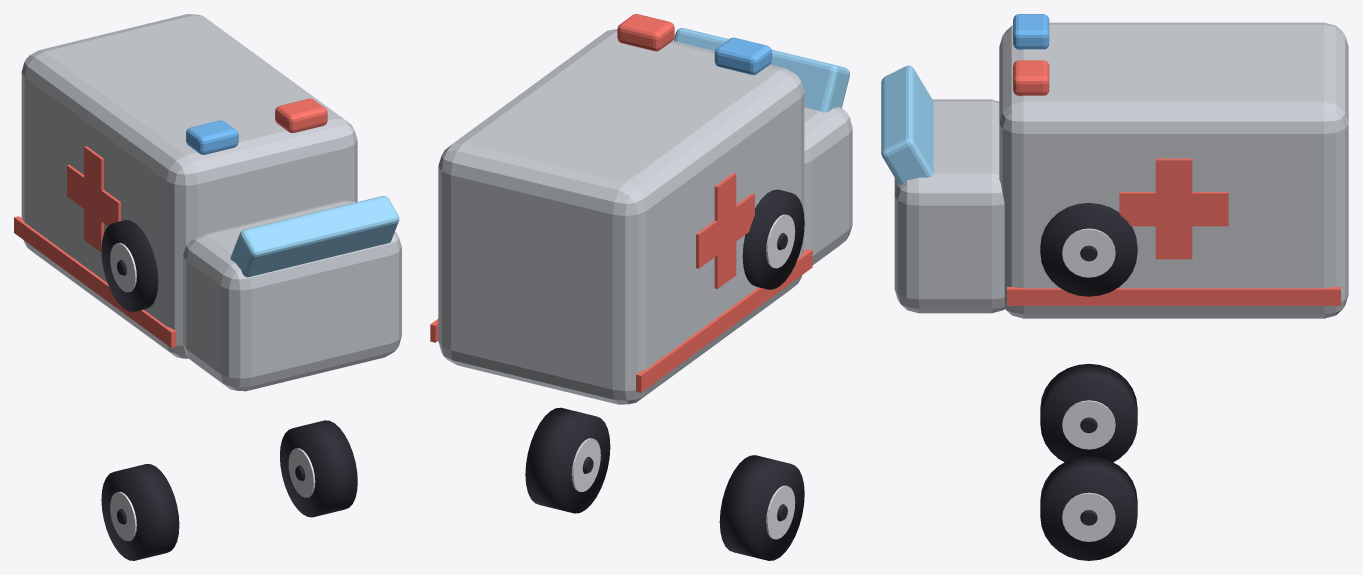
The model's file is Car_Ambulance.fbx.
3 views of the same model, side by side, from view 1: azimuth 30°, elevation 25°; view 2: azimuth 150°, elevation 25°; view 3: azimuth 270°, elevation 25° (orthographic). The views are drawn at different scales.
Parts seen in each view (by area): view 1: Car_Ambulance, Wheel_FL, Wheel_FR, Wheel_RL; view 2: Car_Ambulance, Wheel_FR, Wheel_FL, Wheel_RL; view 3: Car_Ambulance, Wheel_FR, Wheel_FL, Wheel_RR.
Boxes of the visible parts, x1,y1,x2,y2 form: Car_Ambulance: (14,14,401,391); Wheel_FL: (101,464,179,560); Wheel_FR: (280,420,357,517); Wheel_RL: (101,220,158,311); Car_Ambulance: (430,14,852,404); Wheel_FR: (525,407,610,513); Wheel_FL: (719,455,804,560); Wheel_RL: (742,189,804,289); Car_Ambulance: (881,14,1348,318); Wheel_FR: (1040,456,1137,560); Wheel_FL: (1040,364,1137,462); Wheel_RR: (1040,203,1137,296).
Bounding box in the file's own units: 0.8838 × 1.67 × 1.54.
